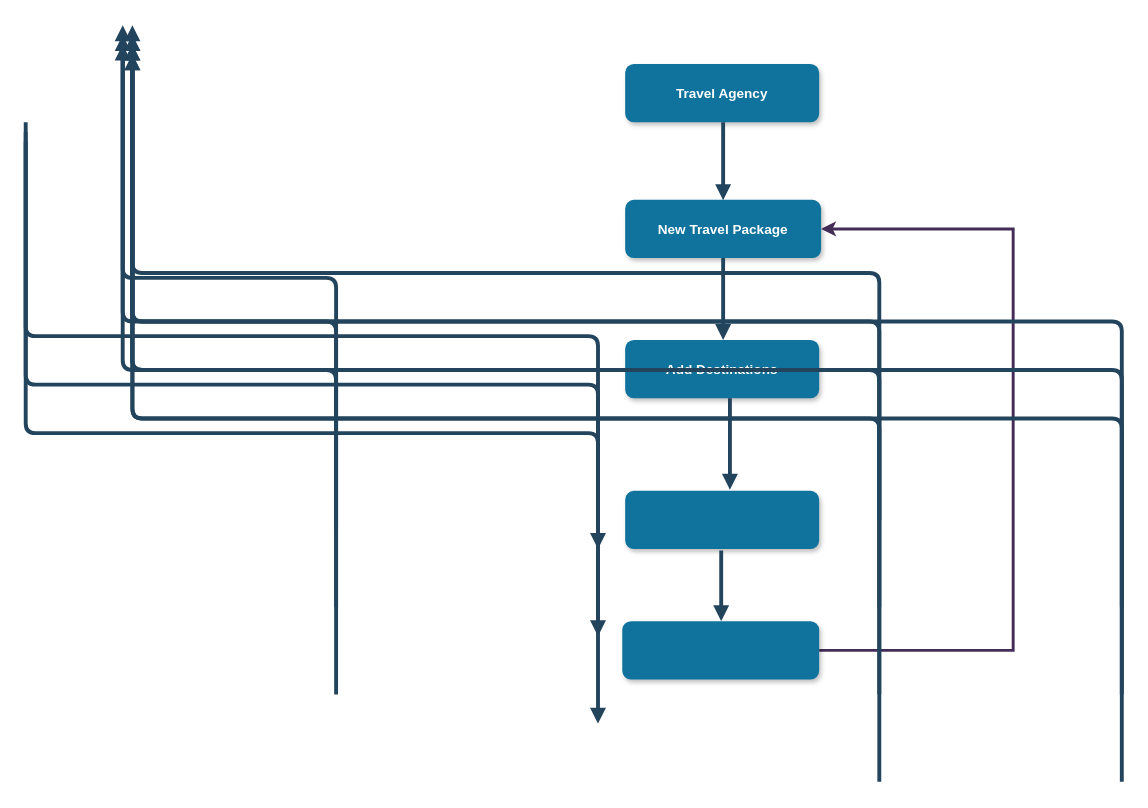
This 1148x808 diagram has some shape labels left out. The centre of each missing label's shape, as x and y in pixels:
Add Activities: the point at 722,520
Add Passengers to the Travel Package: the point at 721,651
